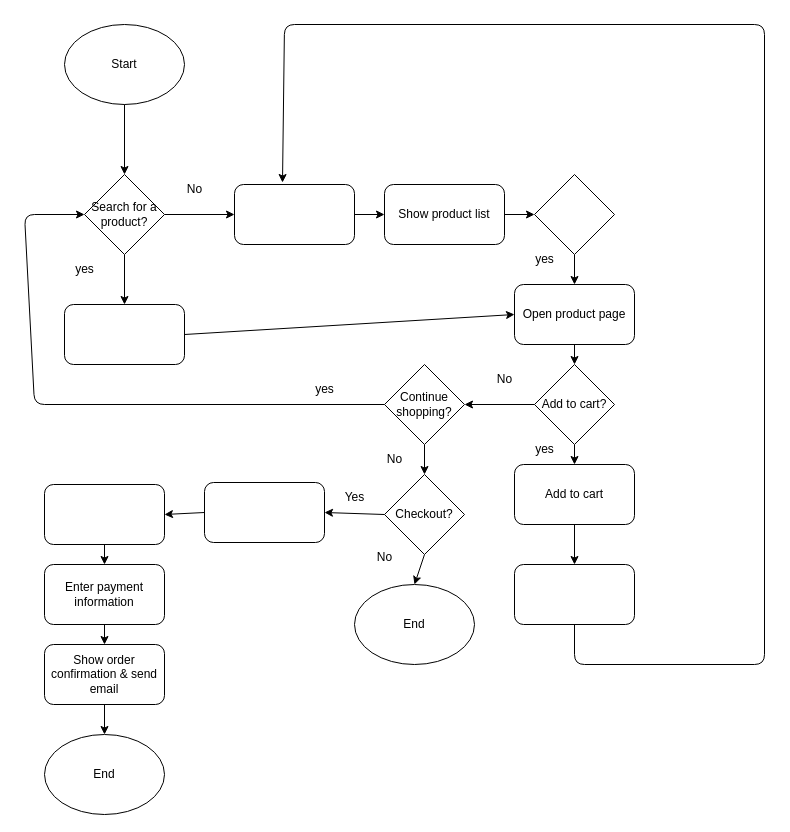
Image size: 790x832. Some labels were removed from this diagram. Here are the shapes that lost their labels. From the top down, the box of each, then its label:
(234, 184, 354, 244): Display home-page products
(534, 174, 614, 254): View specific product?
(64, 304, 184, 364): User inputs search term
(44, 484, 164, 544): View Payment
(204, 482, 324, 542): View Cart
(514, 564, 634, 624): Show "Added to cart" confirmation
